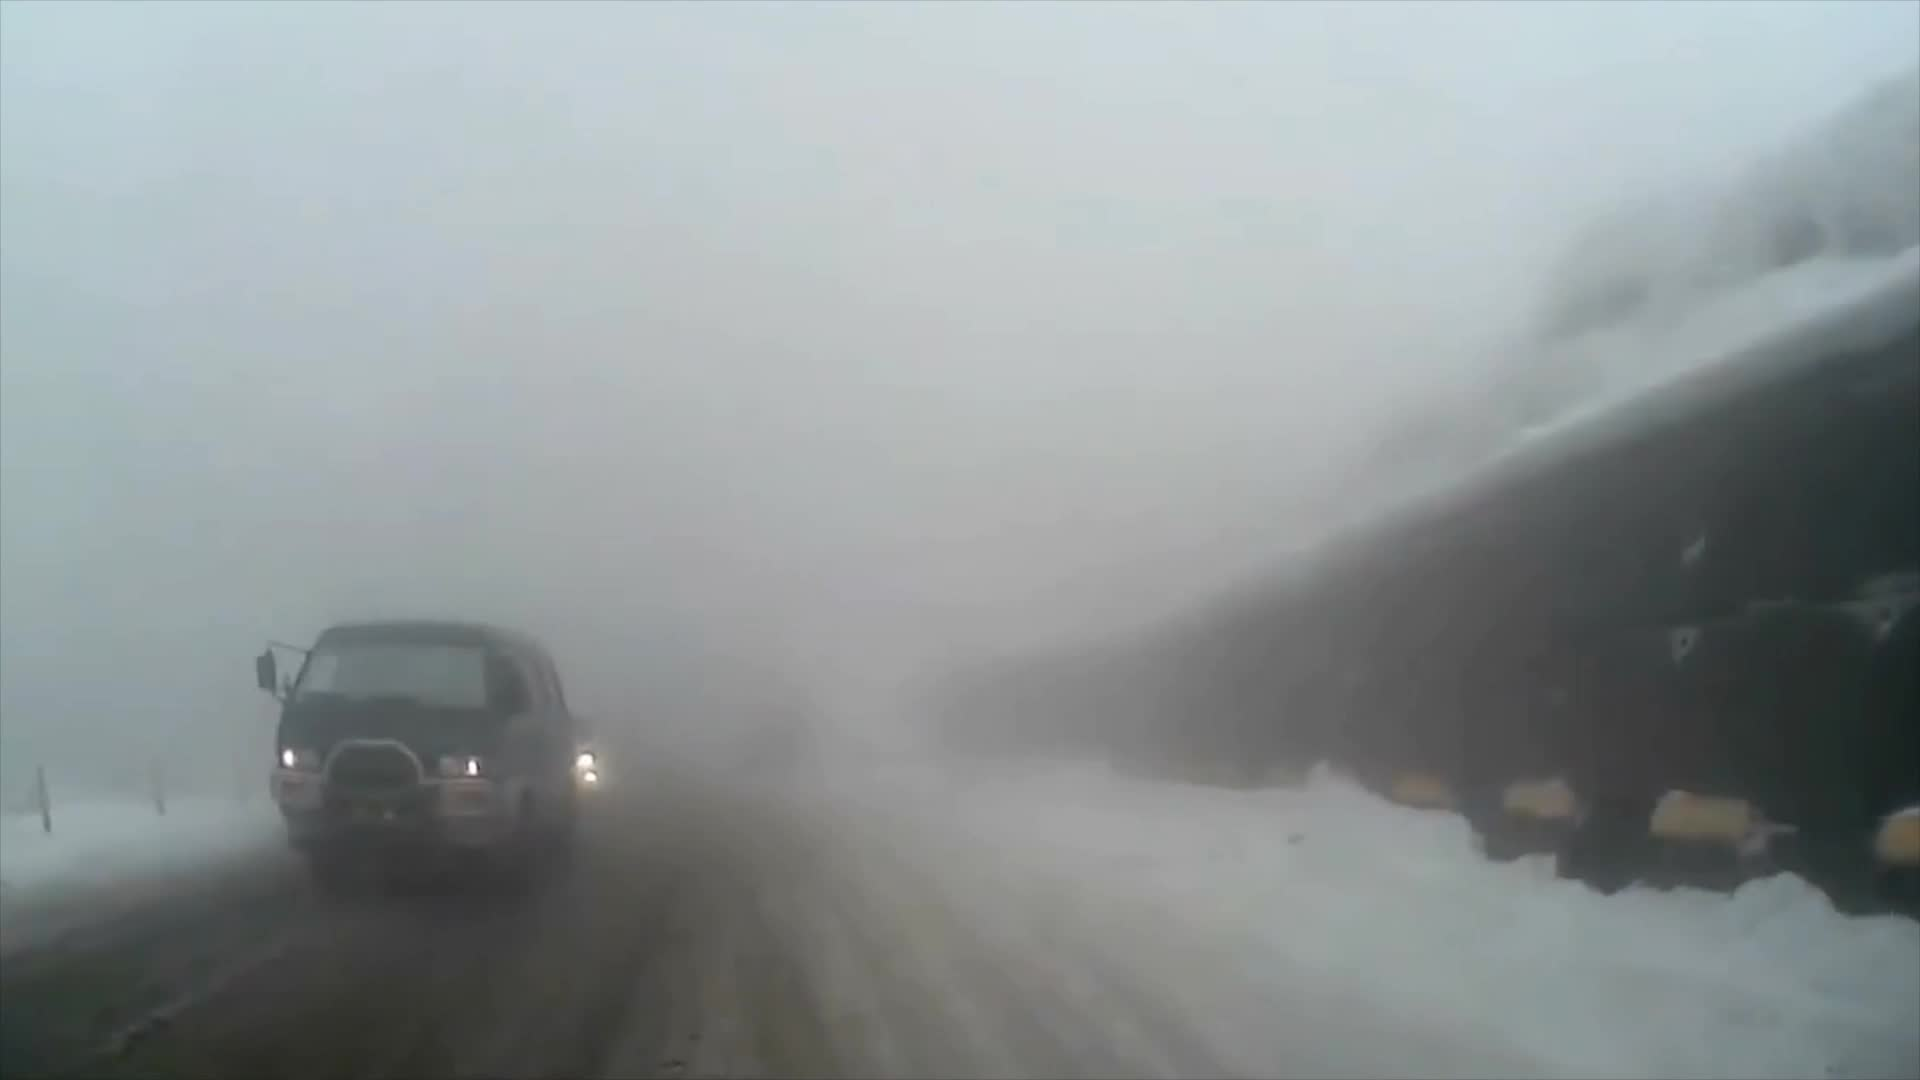vehicle: (252, 607, 582, 906)
